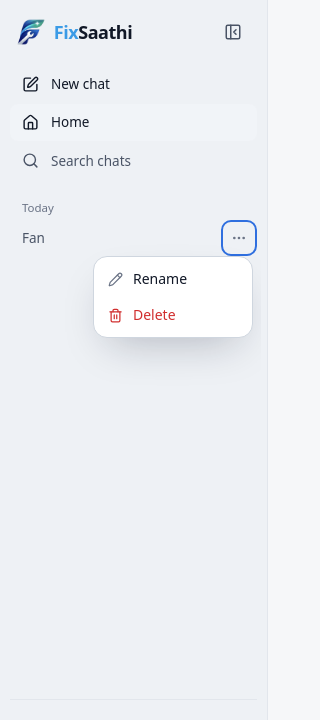
Test: chat history sidebar › renames a chat from its three-dot menu
Earlier steps of the test are not shown.
Click the menu item "Rename". click: (173, 279)
box: [98,261,248,297]
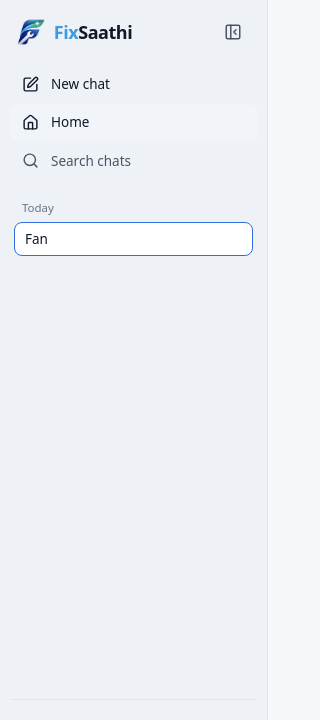
Replace the text in the field named "Rename" with "Hall fan". click: (134, 239)
box: [14,222,253,256]
Then press Enter
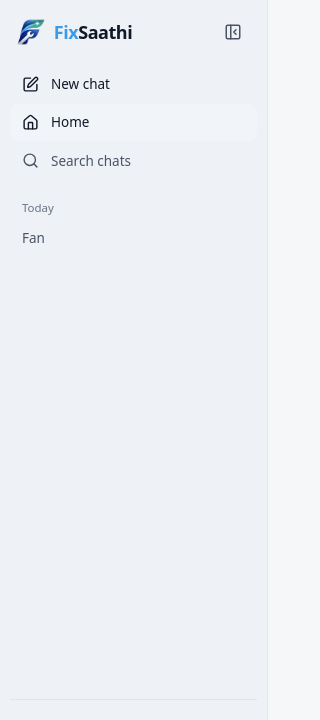
Check: the link named "Hall fan" is shown, box [22,229,45,247]
